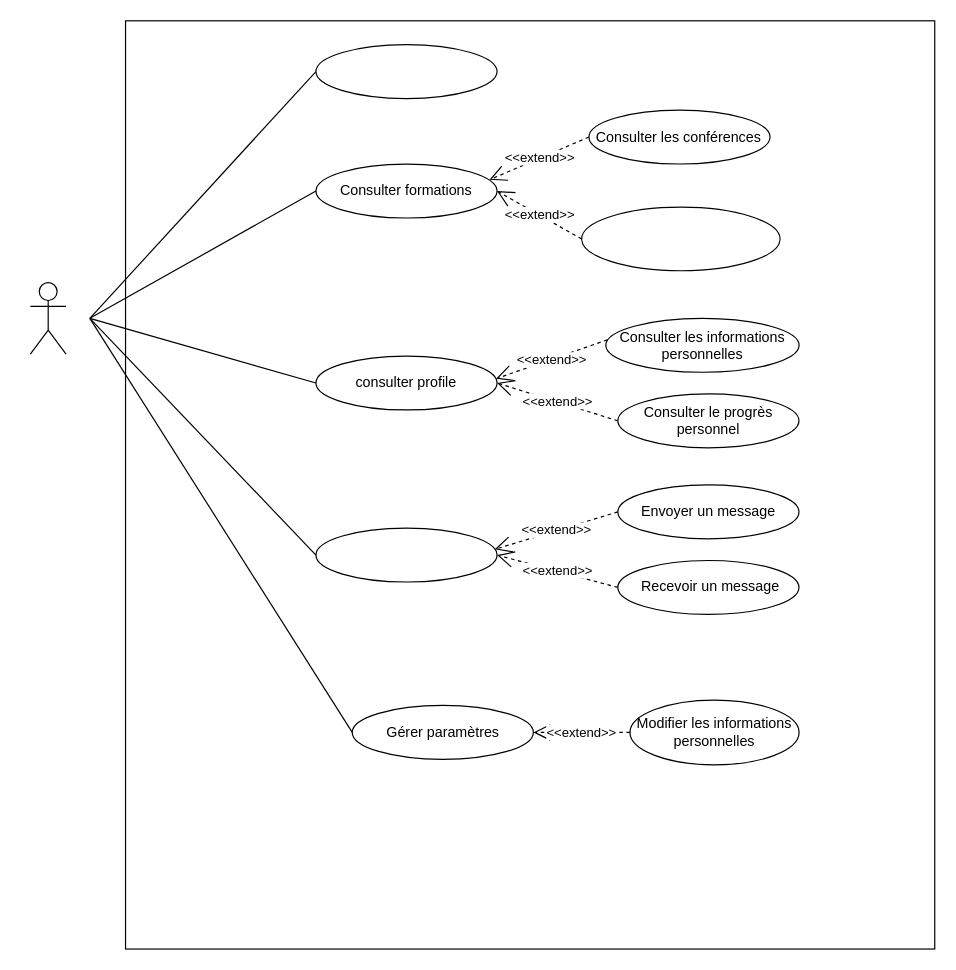
This 956x970 diagram has some shape labels left out. Here are the shapes that lost their labels. From the top down, the centre of each, then its label:
At (406,71): "Créer compte".
At (680,238): "Consulter les ressources pédagogiques".
At (47,317): "Employé".
At (406,554): "Gérer discussions".
